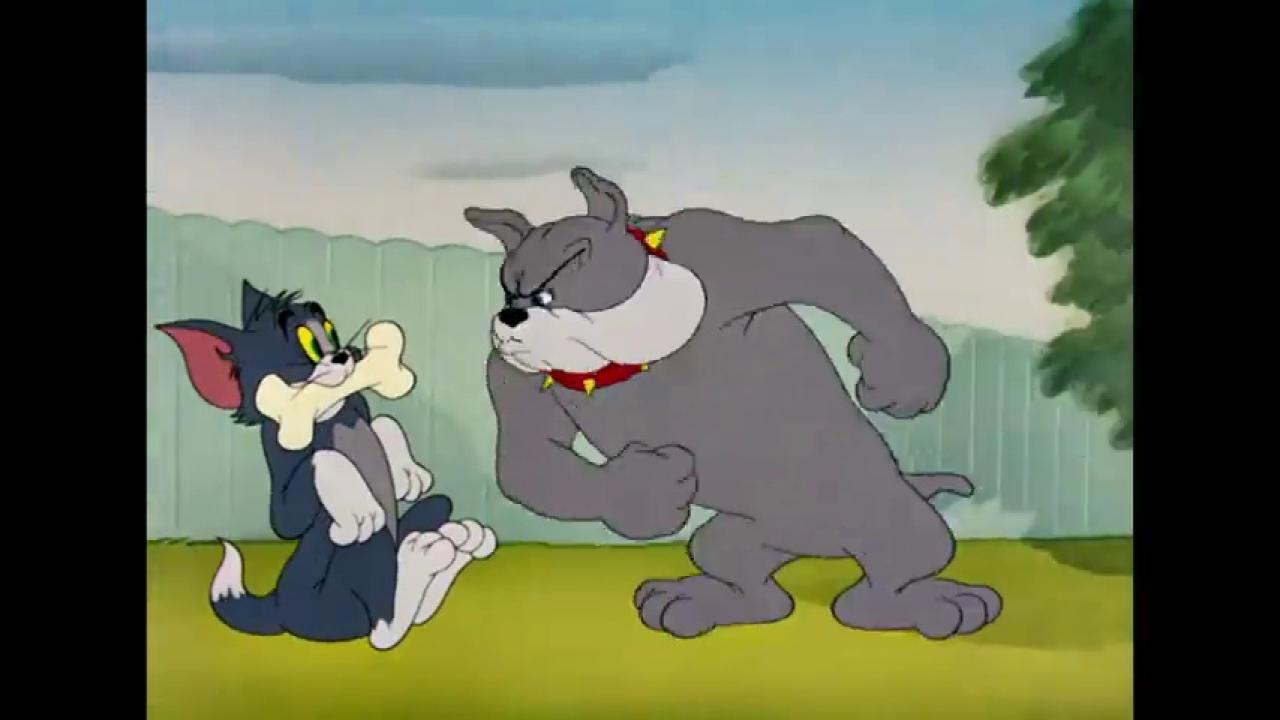Tom: (154, 277, 499, 652)
